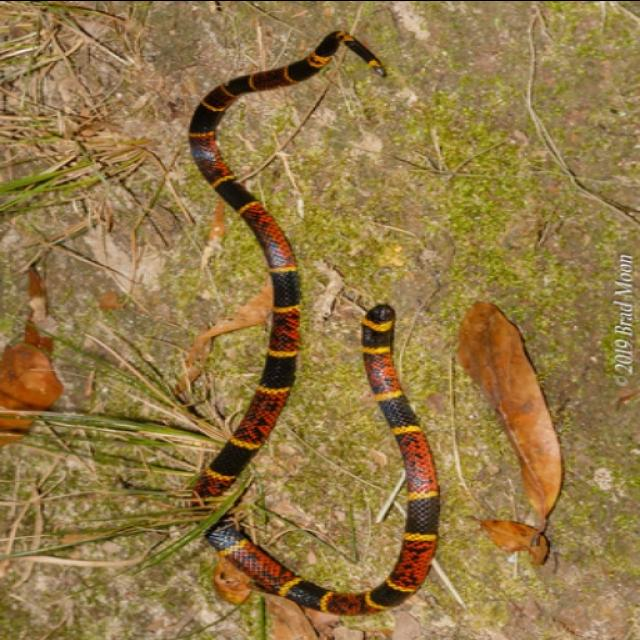snake: (159, 7, 442, 631)
